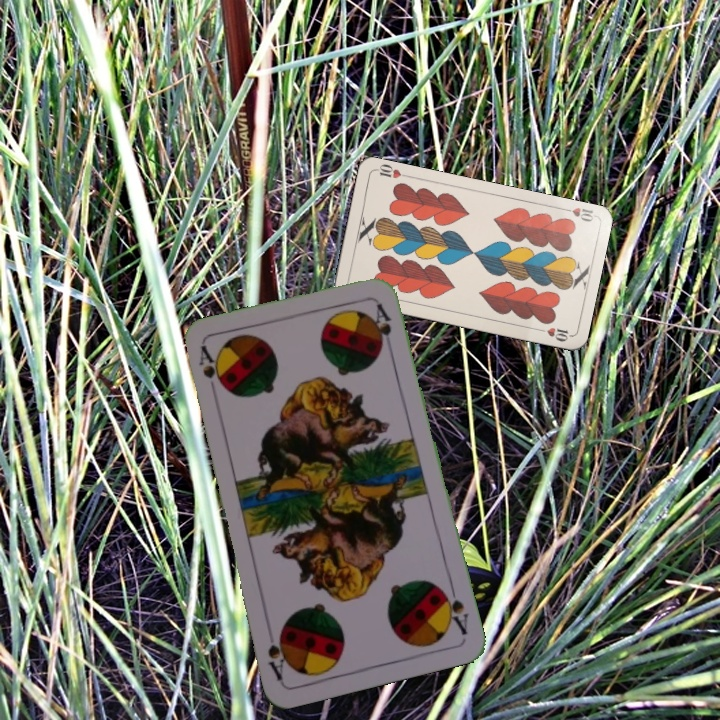H10: (557, 203, 597, 224)
SA: (436, 579, 471, 638), (195, 342, 220, 401)
